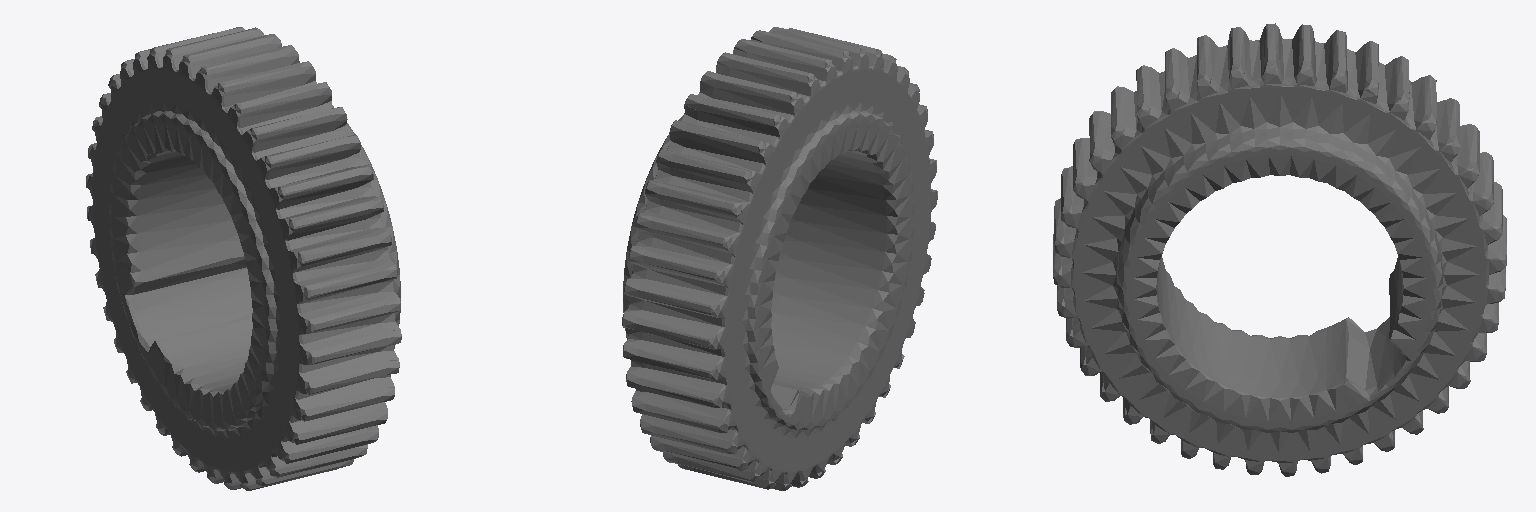
Rendered from gear.obj.
The picture shows the model from 3 angles: view 1: azimuth 30°, elevation 25°; view 2: azimuth 150°, elevation 25°; view 3: azimuth 270°, elevation 25°; orthographic projection.
Parts seen in each view (by area): view 1: Gear1; view 2: Gear1; view 3: Gear1.
Part boxes in pixels (x1,y1,x2,y2): Gear1: (86,27,401,490); Gear1: (622,27,937,490); Gear1: (1053,23,1506,476).
Size of the model in its own units: 2.13 by 6.24 by 6.24.